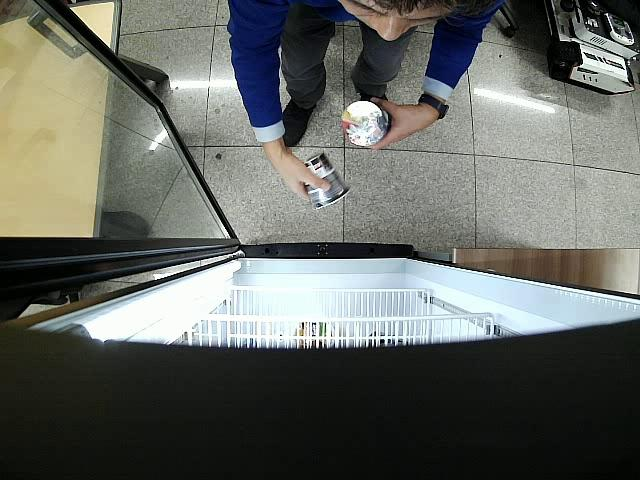00_hand: (265, 153, 331, 203), (369, 97, 426, 150)
08_buldak_S: (305, 152, 350, 210), (342, 101, 390, 146)
